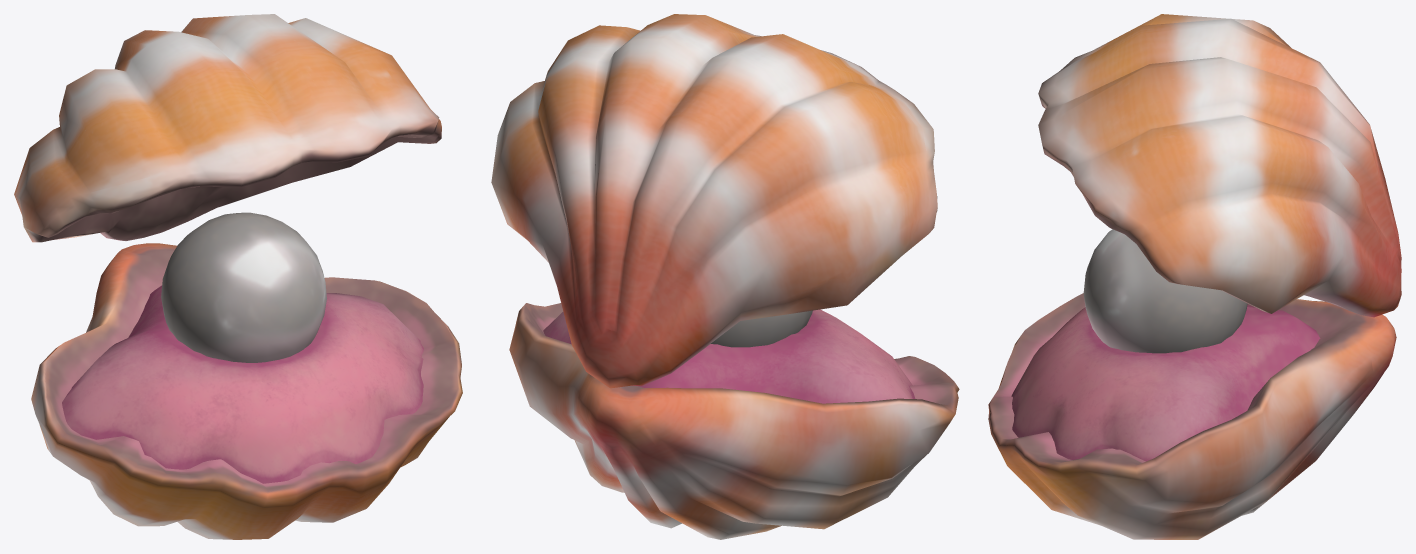
3 views of the same model, side by side, from view 1: azimuth 30°, elevation 25°; view 2: azimuth 150°, elevation 25°; view 3: azimuth 270°, elevation 25° (orthographic). The views are drawn at different scales.
Parts seen in each view (by area): view 1: Superior_low, FleshyThing_low, Inferior_low, Pearl_low; view 2: Superior_low, Inferior_low, FleshyThing_low, Pearl_low; view 3: Superior_low, Inferior_low, FleshyThing_low, Pearl_low.
Part boxes in pixels (left/top/right/bottom): Superior_low: left=14, top=14, right=441, bottom=242; FleshyThing_low: left=62, top=285, right=423, bottom=483; Inferior_low: left=31, top=243, right=462, bottom=539; Pearl_low: left=161, top=212, right=326, bottom=362; Superior_low: left=491, top=14, right=937, bottom=388; Inferior_low: left=509, top=303, right=959, bottom=539; FleshyThing_low: left=543, top=309, right=915, bottom=403; Pearl_low: left=711, top=310, right=812, bottom=347; Superior_low: left=1038, top=14, right=1401, bottom=317; Inferior_low: left=988, top=293, right=1396, bottom=539; FleshyThing_low: left=1011, top=305, right=1320, bottom=461; Pearl_low: left=1083, top=229, right=1247, bottom=353.
Bounding box in the file's own units: 2.68 × 3 × 2.4.
1 material, 1 textured.
